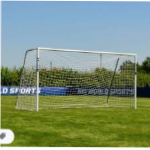goals: (13, 46, 142, 113)
